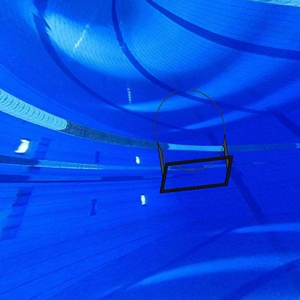circle: (153, 87, 234, 196)
